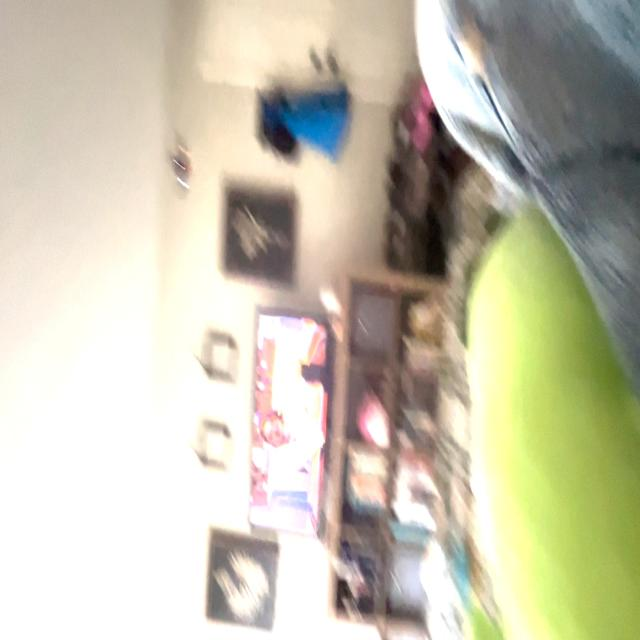drone: (162, 118, 198, 215)
